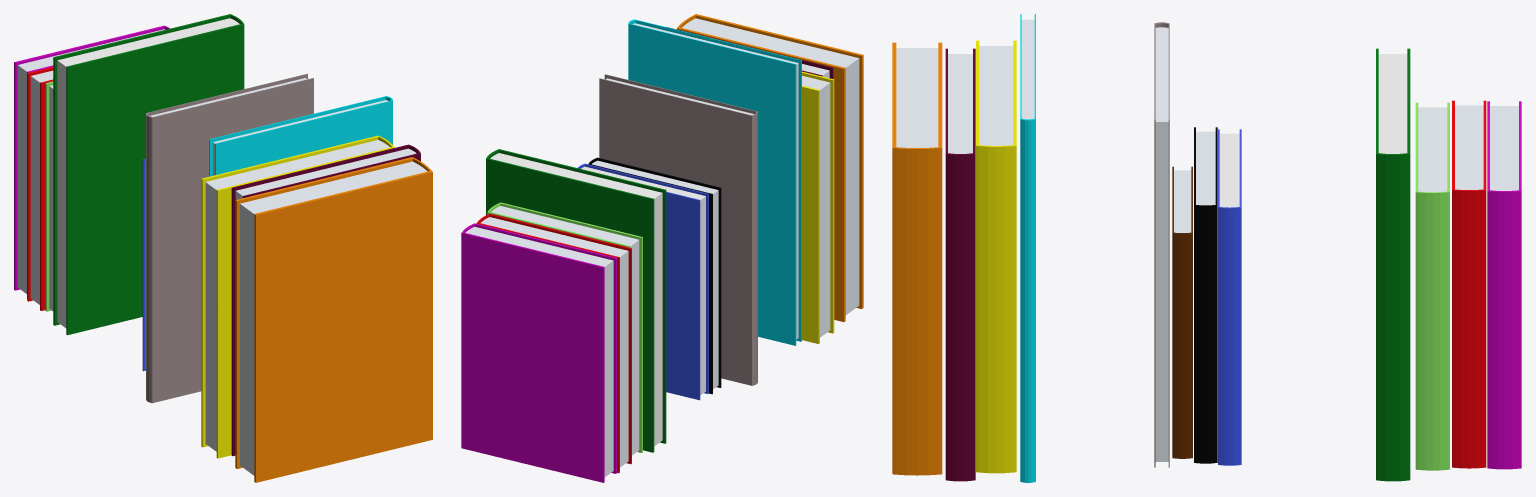
File: books1.glb
The picture shows the model from 3 angles, left to right: view 1: azimuth 30°, elevation 25°; view 2: azimuth 150°, elevation 25°; view 3: azimuth 270°, elevation 25°; orthographic projection. The views are drawn at different scales.
Parts seen in each view (by area): view 1: Book_001, Book_002, Book_006, Book_011, Book_010, Book_008, Book_009, Book_012, Book_007, Book_004; view 2: Book_009, Book_010, Book_006, Book_002, Book_001, Book_004, Book_011, Book_008, Book_007, Book_003, Book_012; view 3: Book_001, Book_011, Book_002, Book_012, Book_007, Book_008, Book_009, Book_004, Book_003, Book_010, Book_006, Book_005.
Boxes of the visible parts, x1,y1,x2,y2 form: Book_001: (235,157,432,482); Book_002: (53,14,244,335); Book_006: (146,73,313,403); Book_011: (201,135,394,458); Book_010: (209,96,392,176); Book_008: (27,67,53,310); Book_009: (14,25,170,298); Book_012: (231,144,420,455); Book_007: (45,81,53,311); Book_004: (142,158,145,371); Book_009: (461,223,616,482); Book_010: (628,19,801,345); Book_006: (599,74,757,385); Book_002: (486,149,666,452); Book_001: (677,14,863,321); Book_004: (578,163,708,400); Book_011: (802,71,834,343); Book_008: (476,213,631,473); Book_007: (487,202,642,455); Book_003: (588,157,721,394); Book_012: (666,27,833,78); Book_001: (892,42,942,475); Book_011: (976,40,1016,473); Book_002: (1376,48,1410,481); Book_012: (945,48,975,481); Book_007: (1415,102,1449,470); Book_008: (1452,100,1486,468); Book_009: (1487,101,1521,469); Book_004: (1218,129,1241,465); Book_003: (1194,127,1217,463); Book_010: (1020,14,1035,482); Book_006: (1154,22,1169,467); Book_005: (1172,166,1192,458).
Size of the model in its own units: 152 by 222 by 350.
Materials: 1 (1 with a texture image).
